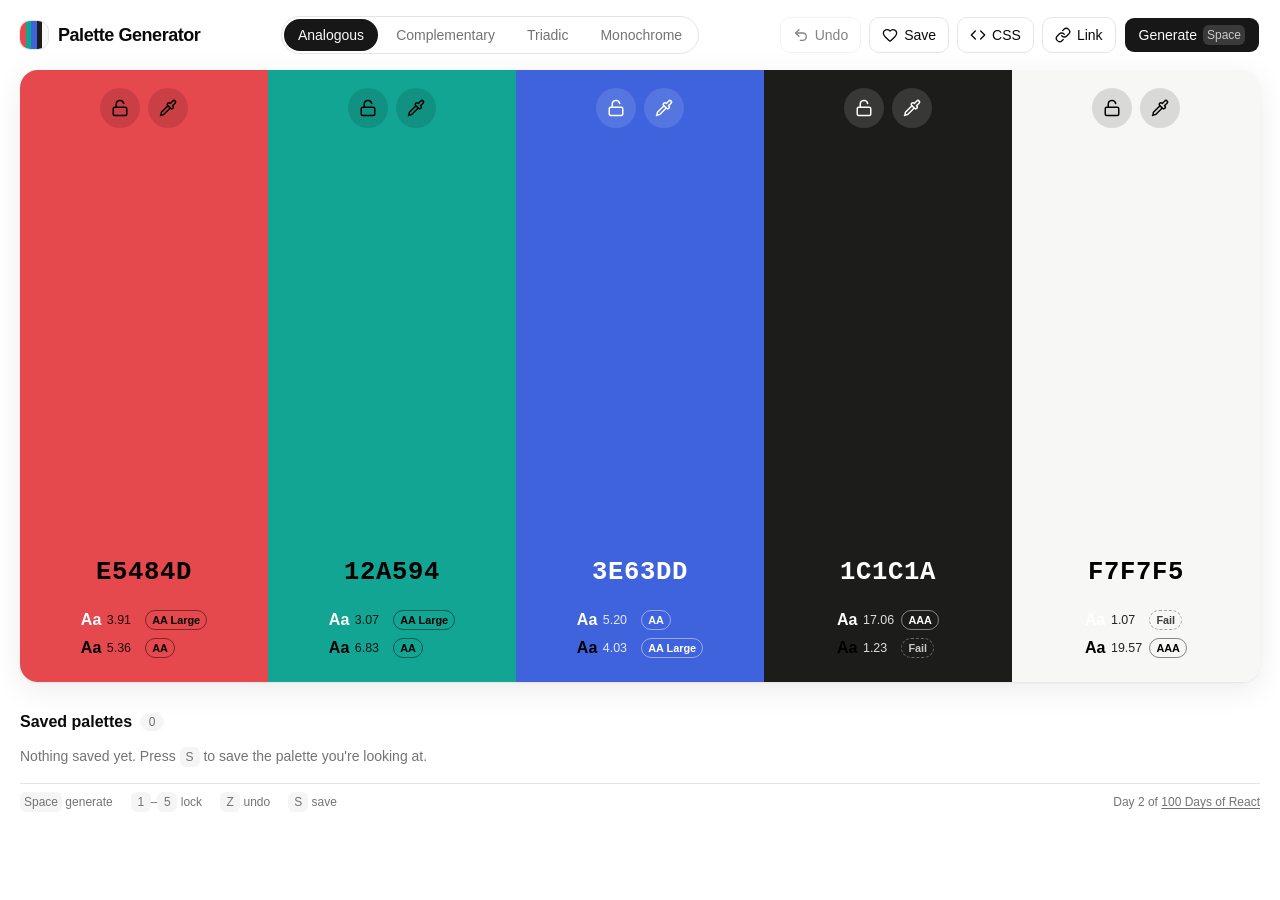
Test: App › copies CSS variables and a share link
The width and height of the screenshot is (1280, 900).
Step 1. Click the button "CSS" → (996, 35), box [957,17,1034,53]
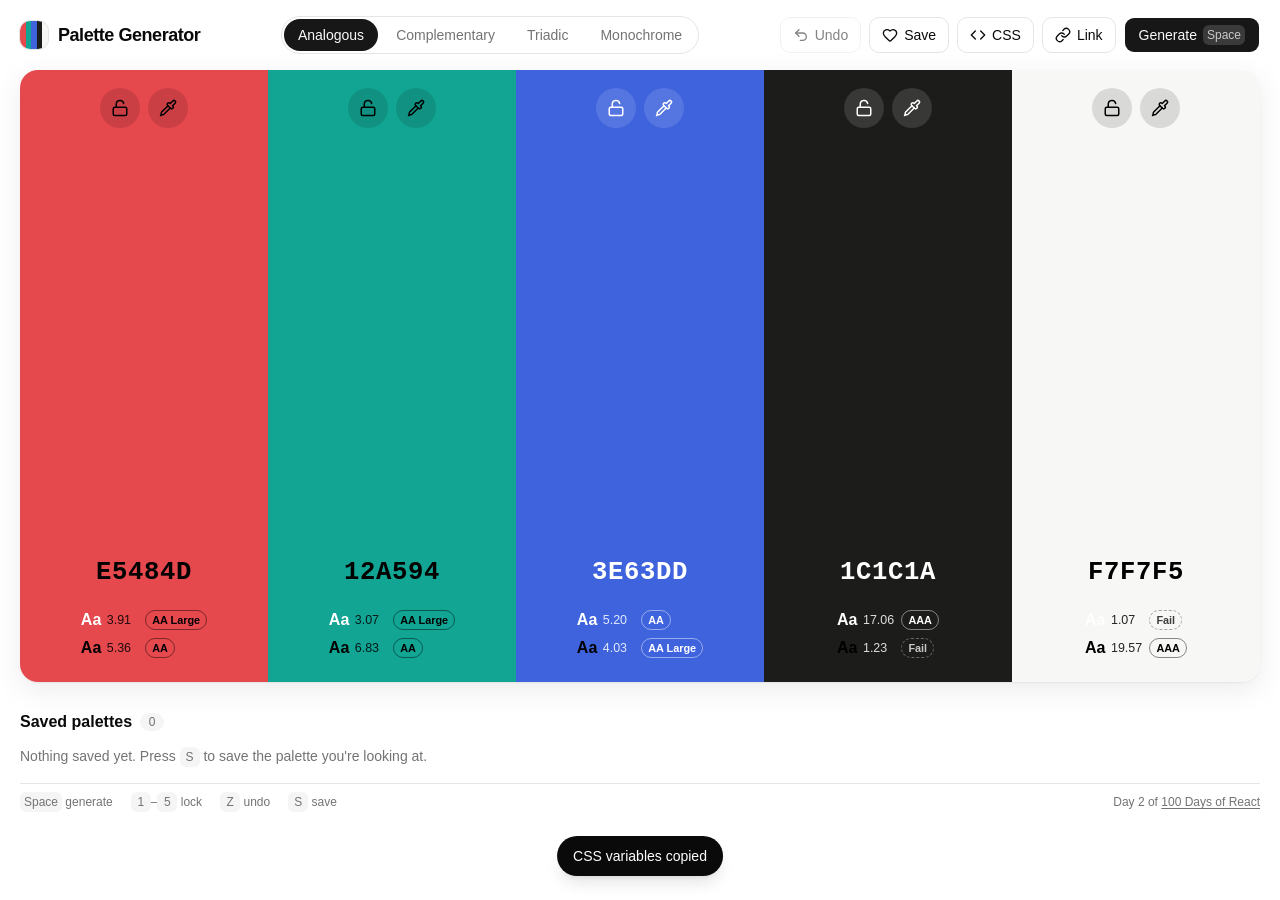
Expected: the message reads "CSS variables copied", [573,848,707,864]
Step 2. Click the button "Link" → (1079, 35), box [1042,17,1116,53]
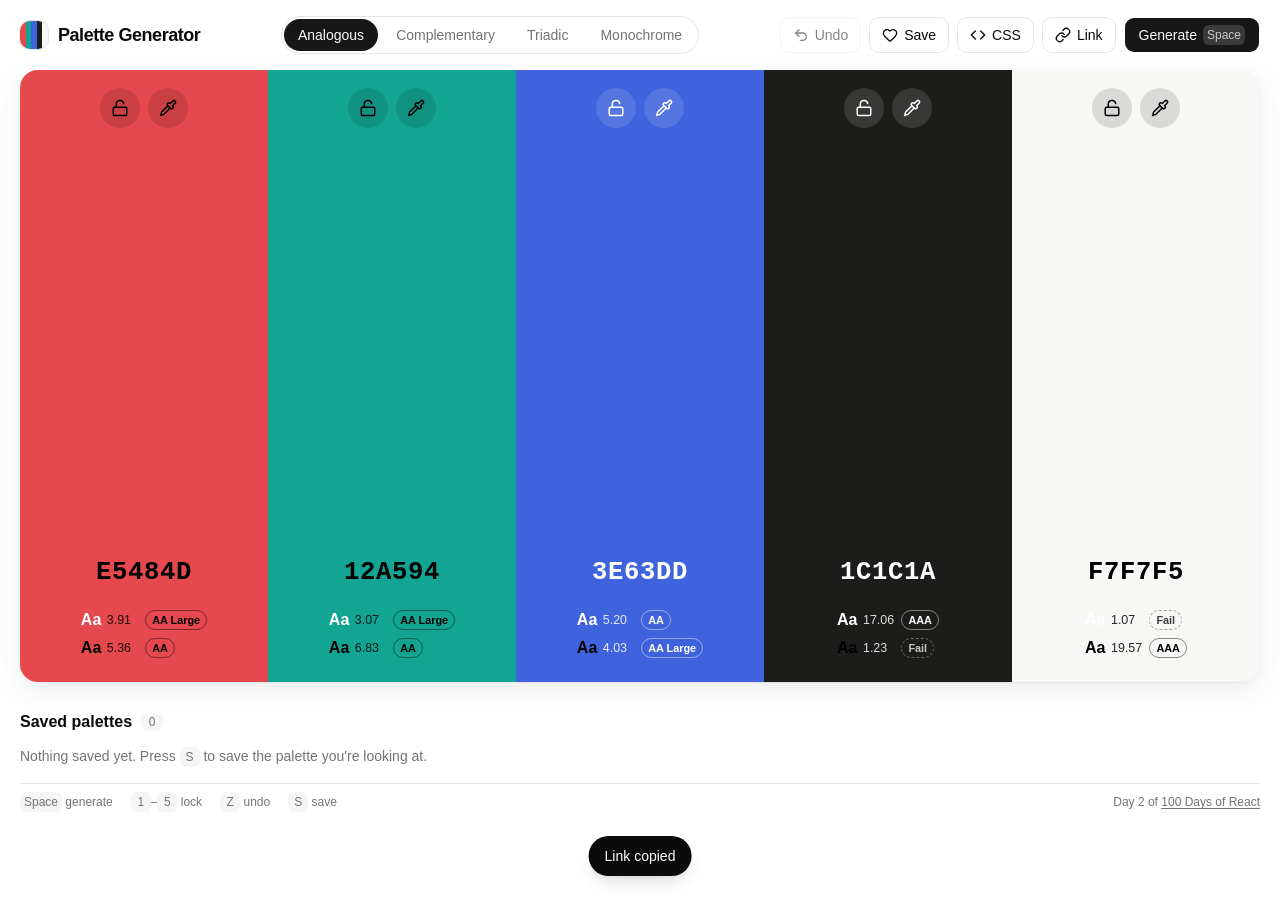
Expected: the message reads "Link copied", [605,848,675,864]
